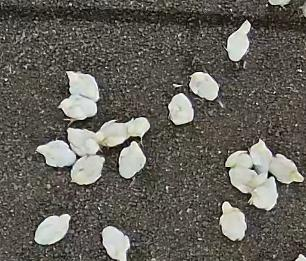chick: (33, 213, 71, 246), (218, 200, 246, 241), (225, 20, 252, 62), (269, 153, 305, 184), (65, 70, 99, 102), (66, 126, 103, 155), (118, 141, 146, 179), (248, 177, 279, 211), (101, 225, 130, 261), (36, 140, 76, 166), (70, 155, 105, 184), (228, 168, 268, 192), (94, 120, 129, 147), (188, 72, 220, 101), (58, 97, 96, 121), (168, 94, 194, 125), (249, 139, 272, 174), (127, 116, 150, 144), (225, 150, 252, 168)
